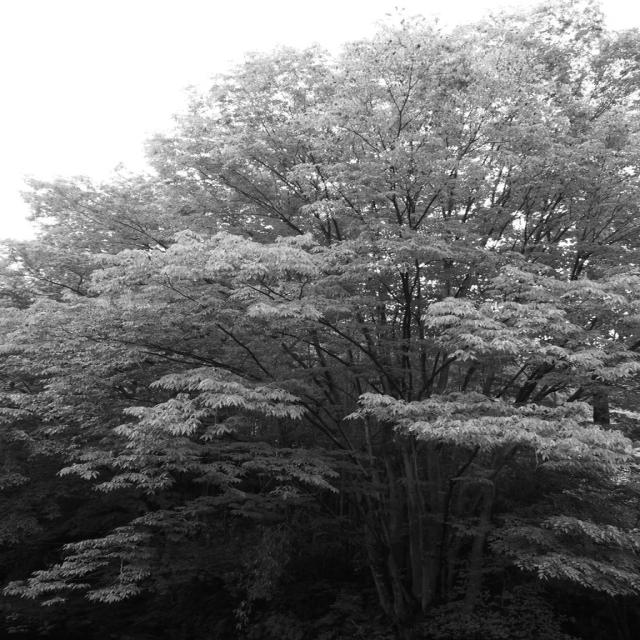zelkova: (0, 0, 640, 615)
